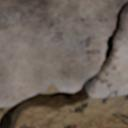broken_brick: (0, 0, 125, 107), (89, 8, 127, 98)
crack: (0, 0, 127, 127)
